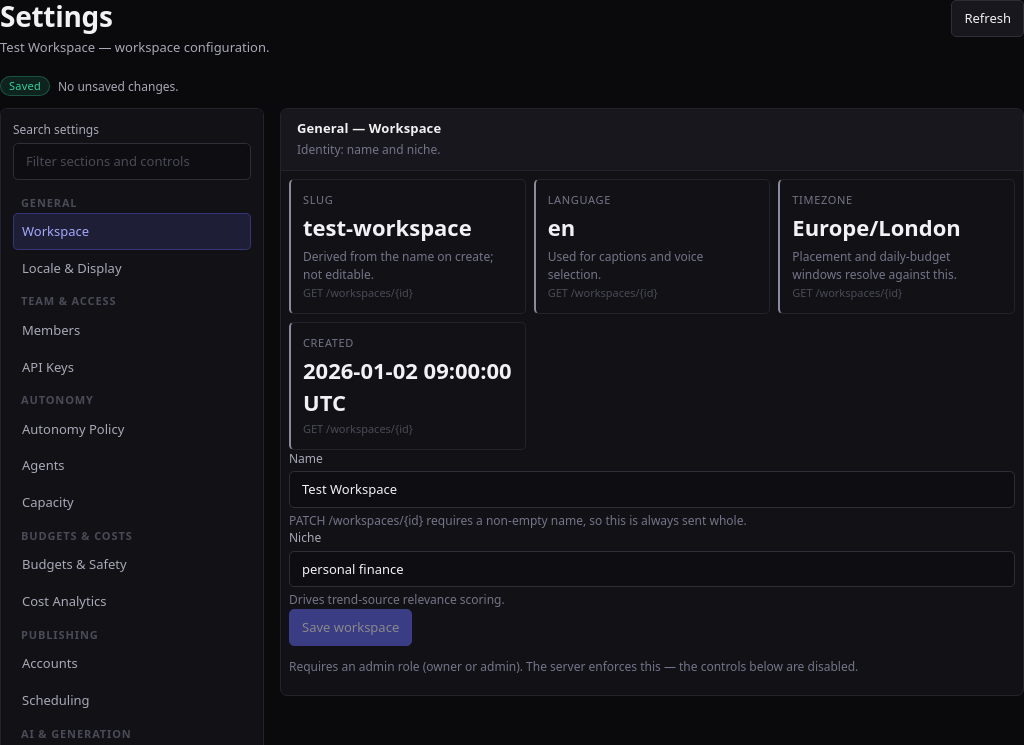
vertical nav, not tabs › moves between sections through the nav
Click the button "Members" at (132, 330), box [13,312,251,348]
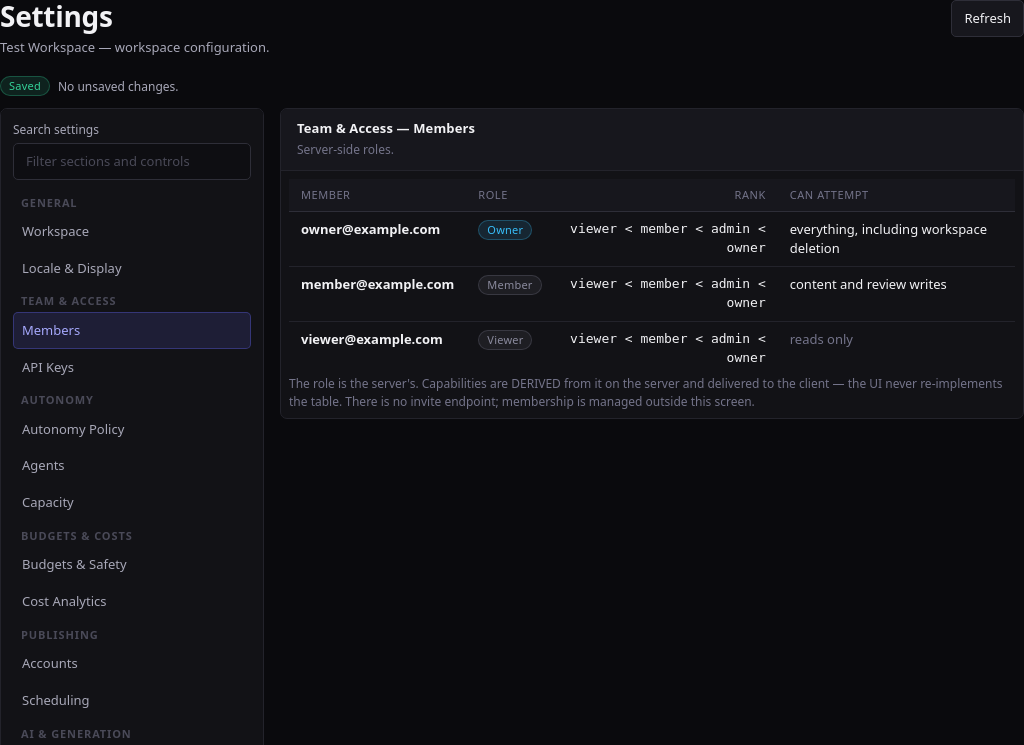
Now the text "owner@example.com" is shown, box [301,220,440,238]
Now the text labelled "name" is gone
